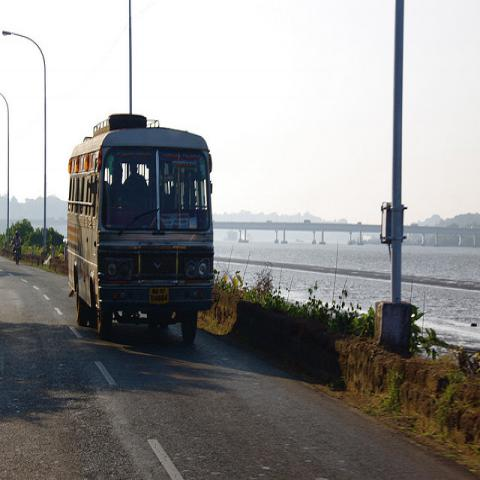bus: (66, 114, 220, 341)
